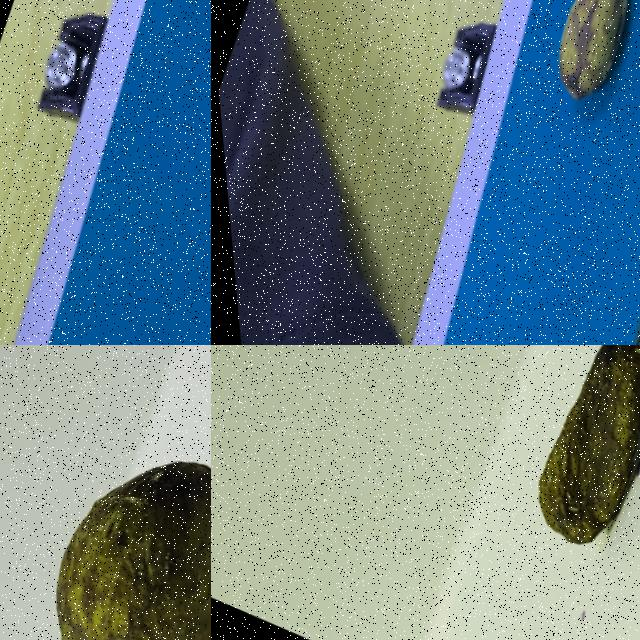Agglomerated_cocoabeans: (119, 0, 210, 229)
Fine_cocoabeans: (0, 345, 210, 639), (467, 0, 639, 190)
Flat_cocoabeans: (439, 345, 639, 639)
